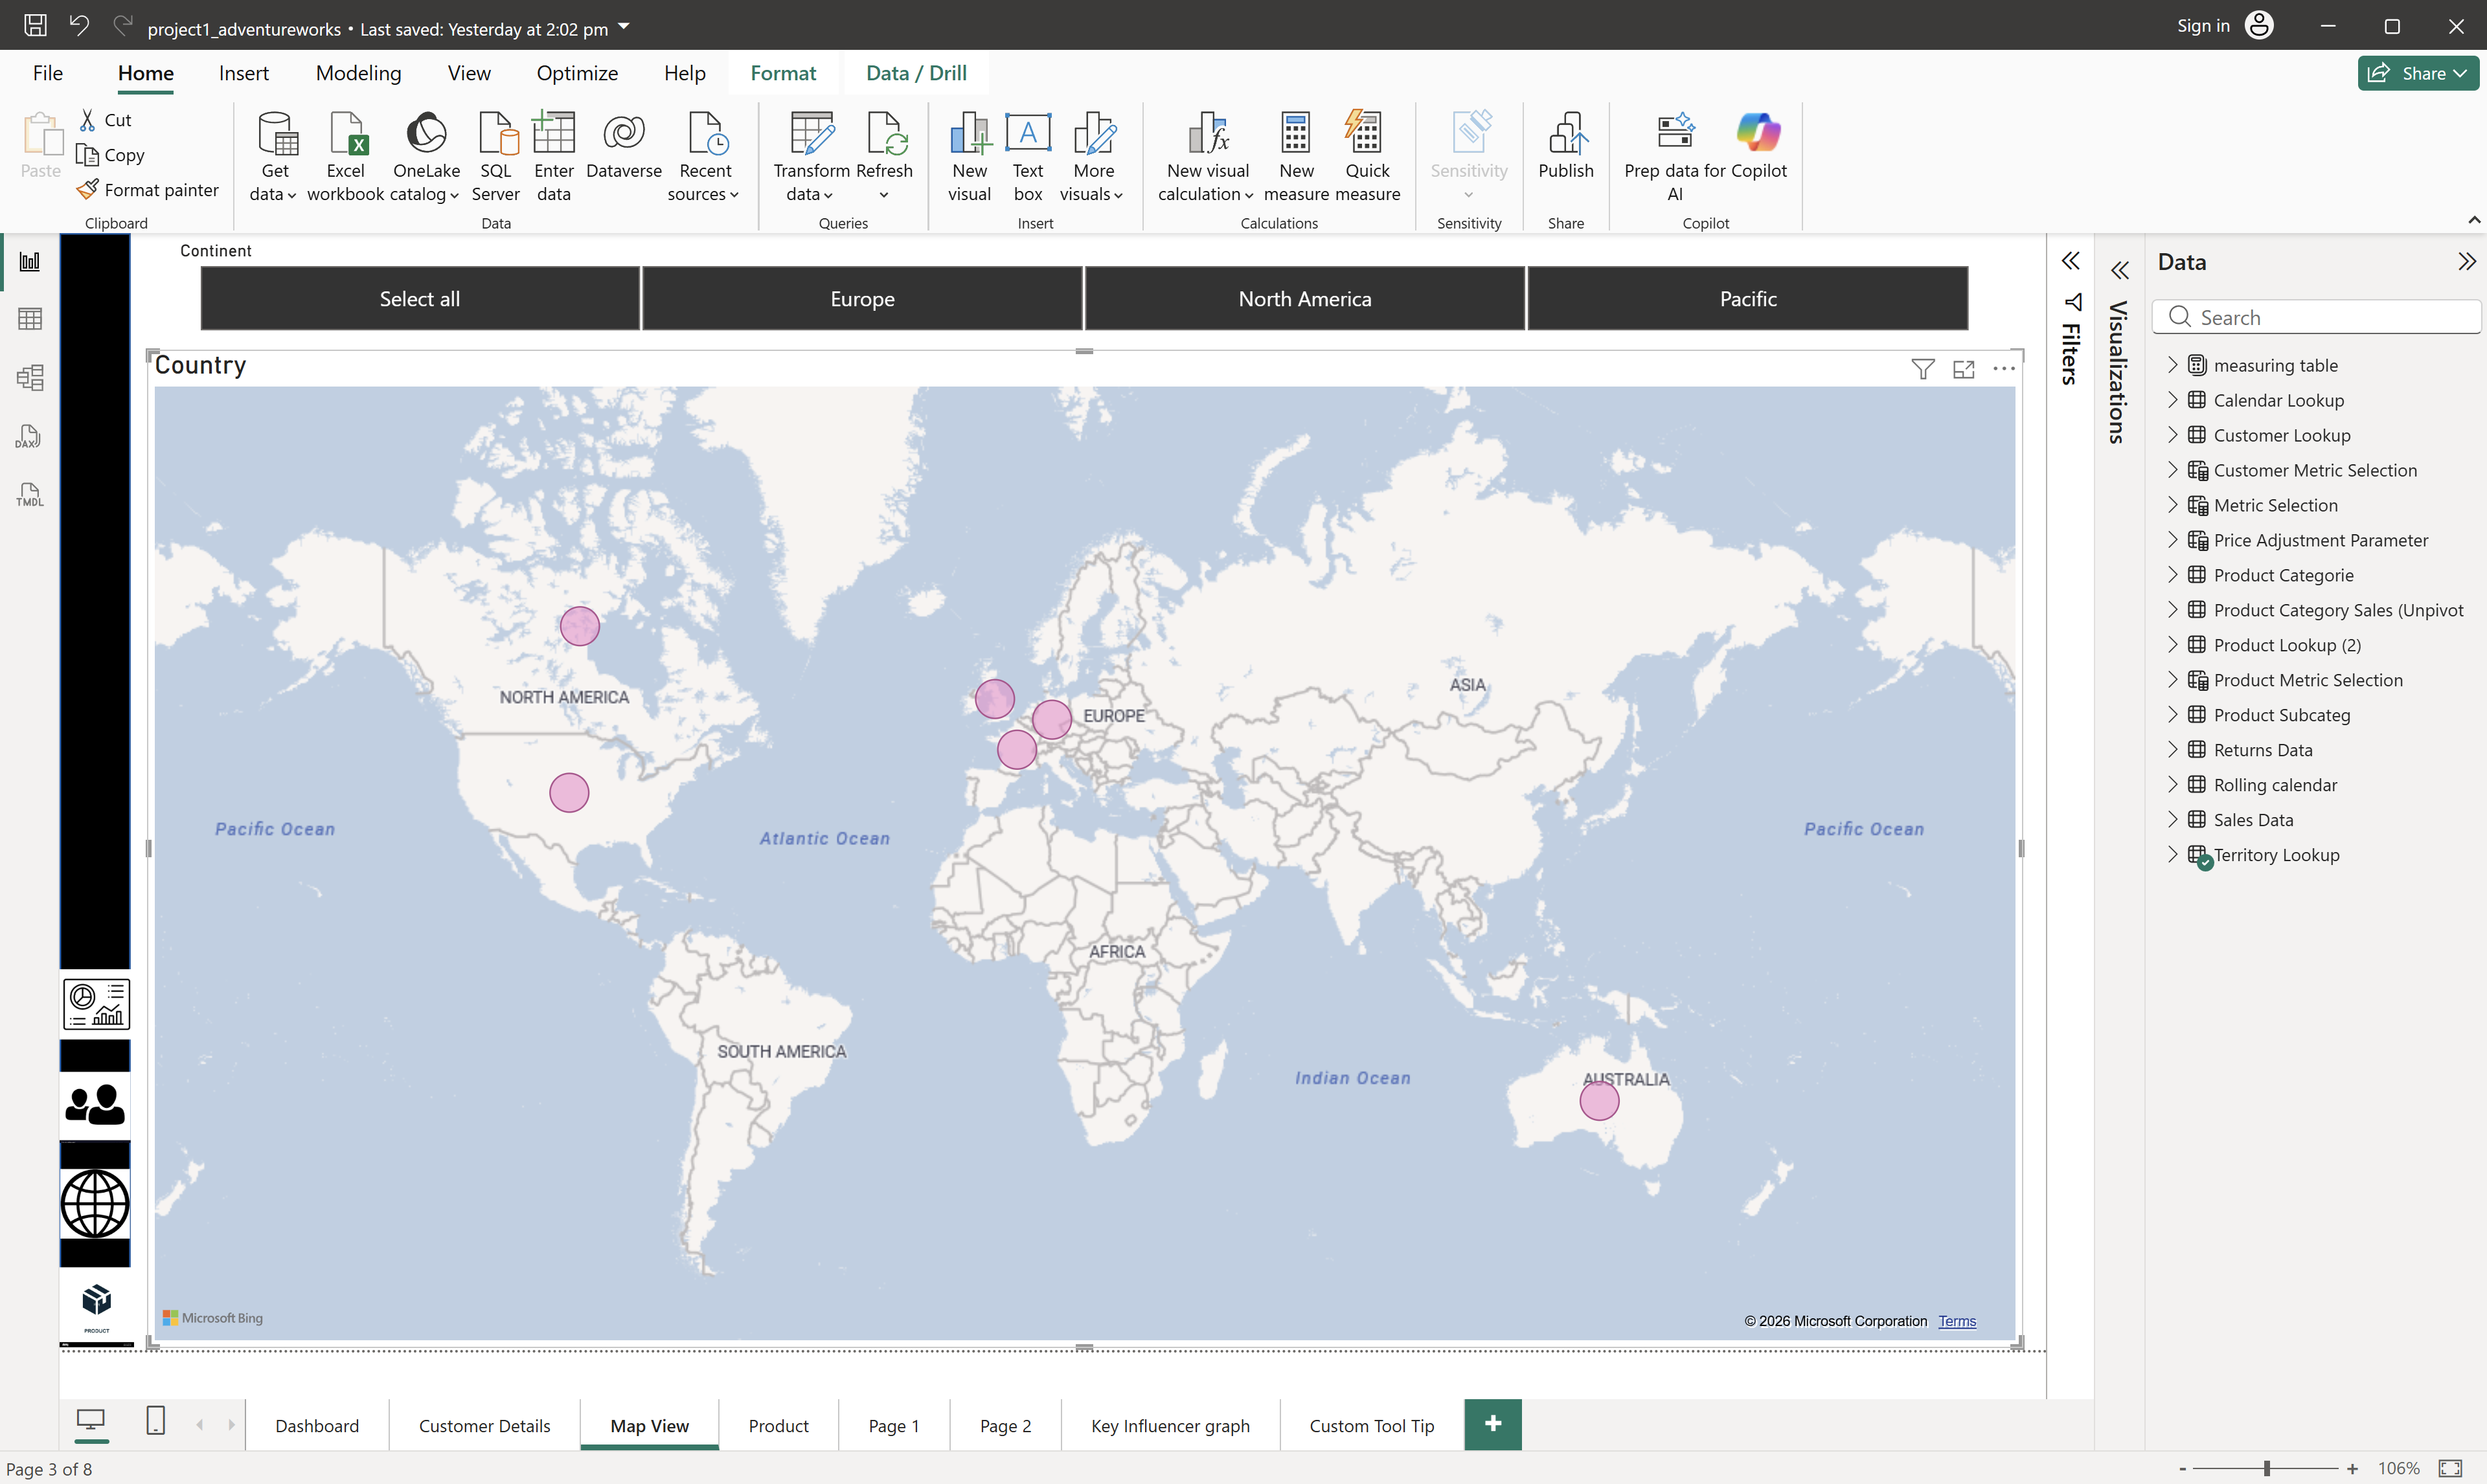

What the dashboard file says about the page in this screenshot:
{"tool":"powerbi","page":{"name":"Map View","canvas":[1280,720],"ordinal":2},"visuals":[{"type":"shape","box":[0,0,45.9,712.8],"z":0},{"type":"slicer","fields":{"Values":["Territory Lookup.Continent"]},"box":[65,0,938.4,69.6],"z":1000},{"type":"map","fields":{"Category":["Territory Lookup.Country"]},"box":[65,61.5,938.4,643.7],"z":2000},{"type":"image","box":[0,602.6,45.8,44.7],"z":3000},{"type":"image","box":[0,537.3,45.8,52.3],"z":4000},{"type":"image","box":[0,471.9,48,51.2],"z":5000},{"type":"image","box":[0,665.9,48,52.3],"z":6000}]}

Visuals, with their boxes on the page's 1280x720 design canvas (x1, y1, x2, y2). These are canvas units, not pixel positions in the 2487x1484 screenshot, which may show the page scaled, cropped or inside an application window:
shape: box=[0, 0, 46, 713]
slicer - Territory Lookup.Continent: box=[65, 0, 1003, 70]
map - Territory Lookup.Country: box=[65, 62, 1003, 705]
image: box=[0, 603, 46, 647]
image: box=[0, 537, 46, 590]
image: box=[0, 472, 48, 523]
image: box=[0, 666, 48, 718]
